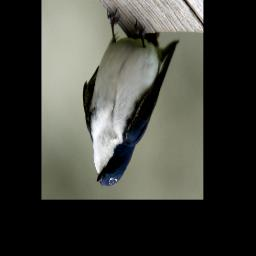Swallow: (82, 7, 180, 188)
